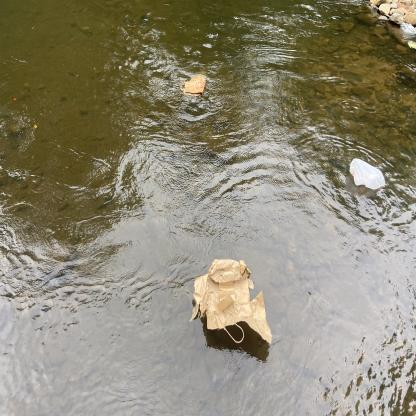trash: (188, 254, 276, 352), (346, 152, 388, 194), (175, 71, 213, 102), (398, 18, 416, 38)
